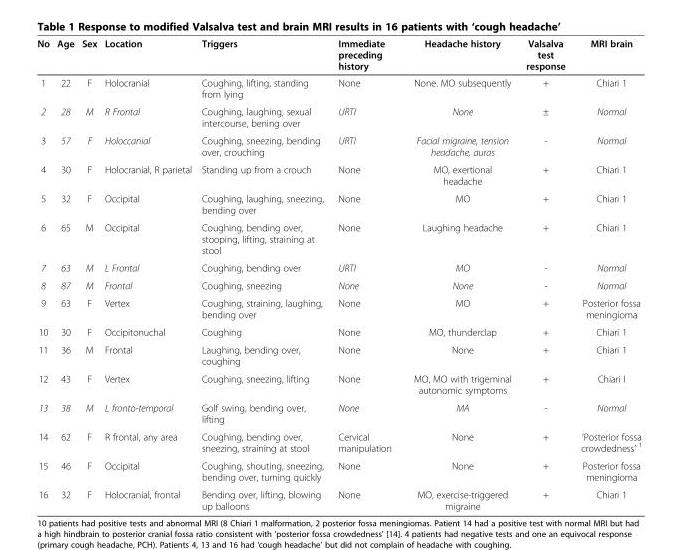table: (36, 37, 641, 511)
table column: (195, 37, 330, 511), (401, 37, 518, 511), (100, 37, 195, 511), (330, 37, 401, 511), (572, 37, 641, 511), (518, 37, 572, 511), (52, 37, 77, 511), (77, 37, 100, 511), (36, 37, 52, 511)
table column header: (36, 37, 641, 74)
table row: (36, 218, 641, 258), (36, 37, 641, 74), (36, 102, 641, 131), (36, 131, 641, 160), (36, 160, 641, 189), (36, 189, 641, 218), (36, 293, 641, 322), (36, 340, 641, 369), (36, 369, 641, 398), (36, 398, 641, 427), (36, 427, 641, 456), (36, 456, 641, 485), (36, 74, 641, 102), (36, 485, 641, 511), (36, 258, 641, 276), (36, 322, 641, 340), (36, 276, 641, 293)
